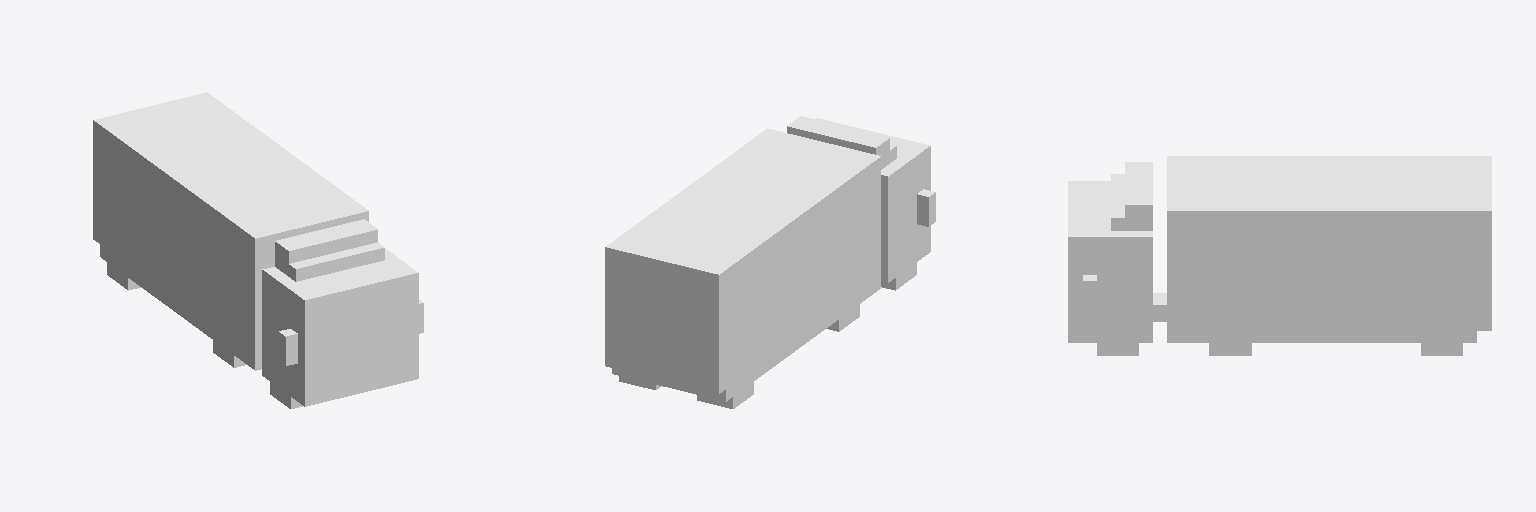
The model's file is truck2.obj.
The picture shows the model from 3 angles: view 1: azimuth 30°, elevation 25°; view 2: azimuth 150°, elevation 25°; view 3: azimuth 270°, elevation 25°; orthographic projection.
Visible parts, largest first — view 1: object 1; view 2: object 1; view 3: object 1.
Part boxes in pixels (x1,y1,x2,y2): object 1: (93,92,423,408); object 1: (605,116,935,408); object 1: (1068,156,1491,355).
Size of the model in its own units: 3.4 by 3.4 by 9.